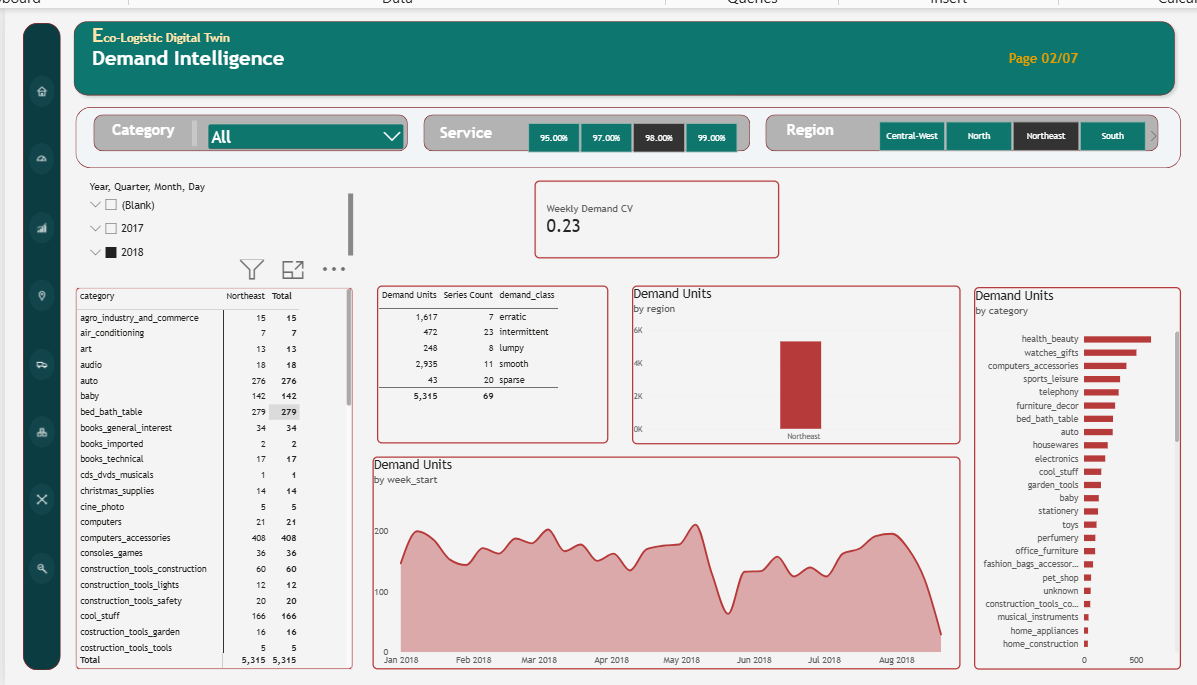

The page's visual inventory and layout, read from the dashboard file:
{"tool":"powerbi","page":{"name":"Demand Intelligence","canvas":[1920,1080],"ordinal":2},"visuals":[{"type":"shape","box":[111.1,158.3,1758.3,97.2],"z":0,"group":"g2"},{"type":"areaChart","fields":{"Category":["demand_weekly.week_start"],"Y":["_Measures.Demand Units"]},"box":[584.5,713.4,935.3,338.8],"z":0},{"type":"shape","box":[138.9,171.3,500,58.3],"z":1000,"group":"g2"},{"type":"barChart","fields":{"Category":["demand_weekly.category"],"Y":["_Measures.Demand Units"]},"box":[1541.3,443.8,329.3,608.4],"z":1000},{"type":"shape","box":[663.9,171.3,519.4,58.3],"z":2000,"group":"g2"},{"type":"columnChart","fields":{"Category":["dim_region.region"],"Y":["_Measures.Demand Units"]},"box":[997.3,441.4,522.5,252.9],"z":2000},{"type":"shape","box":[1208.3,171.3,625,58.3],"z":3000,"group":"g2"},{"type":"tableEx","fields":{"Values":["_Measures.Demand Units","_Measures.Series Count","demand_weekly.demand_class"]},"box":[592.1,442.1,367.7,251.6],"z":3000},{"type":"slicer","fields":{"Values":["demand_weekly.category"]},"box":[316.7,180.5,322.2,50],"z":4000,"group":"g2"},{"type":"pivotTable","fields":{"Columns":["dim_region.region"],"Rows":["demand_weekly.category"],"Values":["_Measures.Demand Units"]},"box":[112.1,443.8,441.4,608.4],"z":4000},{"type":"slicer","fields":{"Values":["demand_weekly.region"]},"box":[1369.4,180.5,463.9,50],"z":5000,"group":"g2"},{"type":"cardVisual","fields":{"Data":["_Measures.Weekly Demand CV"]},"box":[842.1,273.7,389.5,123.7],"z":5000},{"type":"group","id":"g1","title":"Group 2","box":[100,11.1,1797.2,136.1],"z":6000},{"type":"slicer","fields":{"Values":["inventory_policy.service_level"]},"box":[811.1,183.3,372.2,50],"z":6000,"group":"g2"},{"type":"shape","box":[100,11.1,1769.4,136.1],"z":7000,"group":"g1"},{"type":"group","id":"g2","title":"Group 3","box":[111.1,158.3,1758.3,97.2],"z":7000},{"type":"textbox","box":[168.1,179,136,42.9],"z":7000,"group":"g2"},{"type":"textbox","box":[138.9,22.2,1758.3,113.9],"z":8000,"group":"g1"},{"type":"group","id":"g3","title":"Group 4","box":[28.6,23.9,59.6,1028.3],"z":8000},{"type":"slicer","fields":{"Values":["dim_date.date_id.Variation.Date Hierarchy.Year","dim_date.date_id.Variation.Date Hierarchy.Quarter","dim_date.date_id.Variation.Date Hierarchy.Month","dim_date.date_id.Variation.Date Hierarchy.Day"]},"box":[126.5,274.4,427.1,131.2],"z":9000},{"type":"textbox","box":[690.9,184.4,150,56.7],"z":9004,"group":"g2"},{"type":"textbox","box":[1243.3,180,220,61.7],"z":10000},{"type":"shape","box":[28.6,23.9,59.8,1029.3],"z":14000,"group":"g3"},{"type":"textbox","box":[1519.4,66.7,263.9,55.6],"z":16000,"group":"g1"},{"type":"actionButton","box":[37.2,106.5,40.8,50.2],"z":17000,"group":"g4"},{"type":"actionButton","box":[37.2,864.6,40.8,50.2],"z":21000,"group":"g4"},{"type":"actionButton","box":[37.2,756.4,40.8,50.2],"z":22000,"group":"g4"},{"type":"actionButton","box":[37.1,647.9,41.1,50.5],"z":23000,"group":"g4"},{"type":"actionButton","box":[37.2,539.7,40.8,50.2],"z":24000,"group":"g4"},{"type":"actionButton","box":[37.2,323.2,40.8,50.2],"z":25000,"group":"g4"},{"type":"actionButton","box":[37.2,431.5,40.8,50.2],"z":26000,"group":"g4"},{"type":"actionButton","box":[37.8,214.7,39.6,50.5],"z":27000,"group":"g4"},{"type":"group","id":"g4","title":"Group 1","box":[37.1,106.5,41.1,808.3],"z":27001,"group":"g3"}]}

Visuals, with their boxes on the page's 1920x1080 design canvas (x1, y1, x2, y2). These are canvas units, not pixel positions in the 1197x685 screenshot, which may show the page scaled, cropped or inside an application window:
shape: <box>111,158,1869,256</box>
areaChart - demand_weekly.week_start x _Measures.Demand Units: <box>584,713,1520,1052</box>
shape: <box>139,171,639,230</box>
barChart - demand_weekly.category x _Measures.Demand Units: <box>1541,444,1871,1052</box>
shape: <box>664,171,1183,230</box>
columnChart - dim_region.region x _Measures.Demand Units: <box>997,441,1520,694</box>
shape: <box>1208,171,1833,230</box>
tableEx - _Measures.Demand Units x _Measures.Series Count: <box>592,442,960,694</box>
slicer - demand_weekly.category: <box>317,180,639,230</box>
pivotTable - dim_region.region x demand_weekly.category: <box>112,444,554,1052</box>
slicer - demand_weekly.region: <box>1369,180,1833,230</box>
cardVisual - _Measures.Weekly Demand CV: <box>842,274,1232,397</box>
"Group 2" group: <box>100,11,1897,147</box>
slicer - inventory_policy.service_level: <box>811,183,1183,233</box>
shape: <box>100,11,1869,147</box>
"Group 3" group: <box>111,158,1869,256</box>
textbox: <box>168,179,304,222</box>
textbox: <box>139,22,1897,136</box>
"Group 4" group: <box>29,24,88,1052</box>
slicer - dim_date.date_id.Variation.Date Hierarchy.Year x dim_date.date_id.Variation.Date Hierarchy.Quarter: <box>126,274,554,406</box>
textbox: <box>691,184,841,241</box>
textbox: <box>1243,180,1463,242</box>
shape: <box>29,24,88,1053</box>
textbox: <box>1519,67,1783,122</box>
actionButton: <box>37,106,78,157</box>
actionButton: <box>37,865,78,915</box>
actionButton: <box>37,756,78,807</box>
actionButton: <box>37,648,78,698</box>
actionButton: <box>37,540,78,590</box>
actionButton: <box>37,323,78,373</box>
actionButton: <box>37,432,78,482</box>
actionButton: <box>38,215,77,265</box>
"Group 1" group: <box>37,106,78,915</box>
